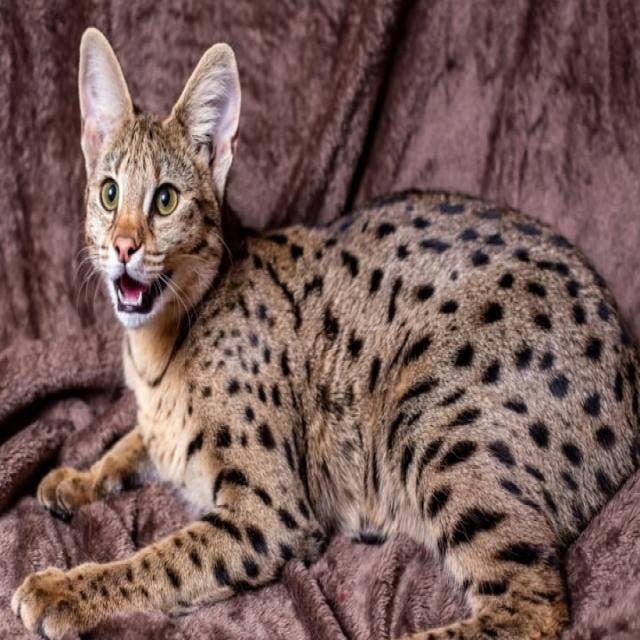Savannah: (7, 20, 640, 640)
